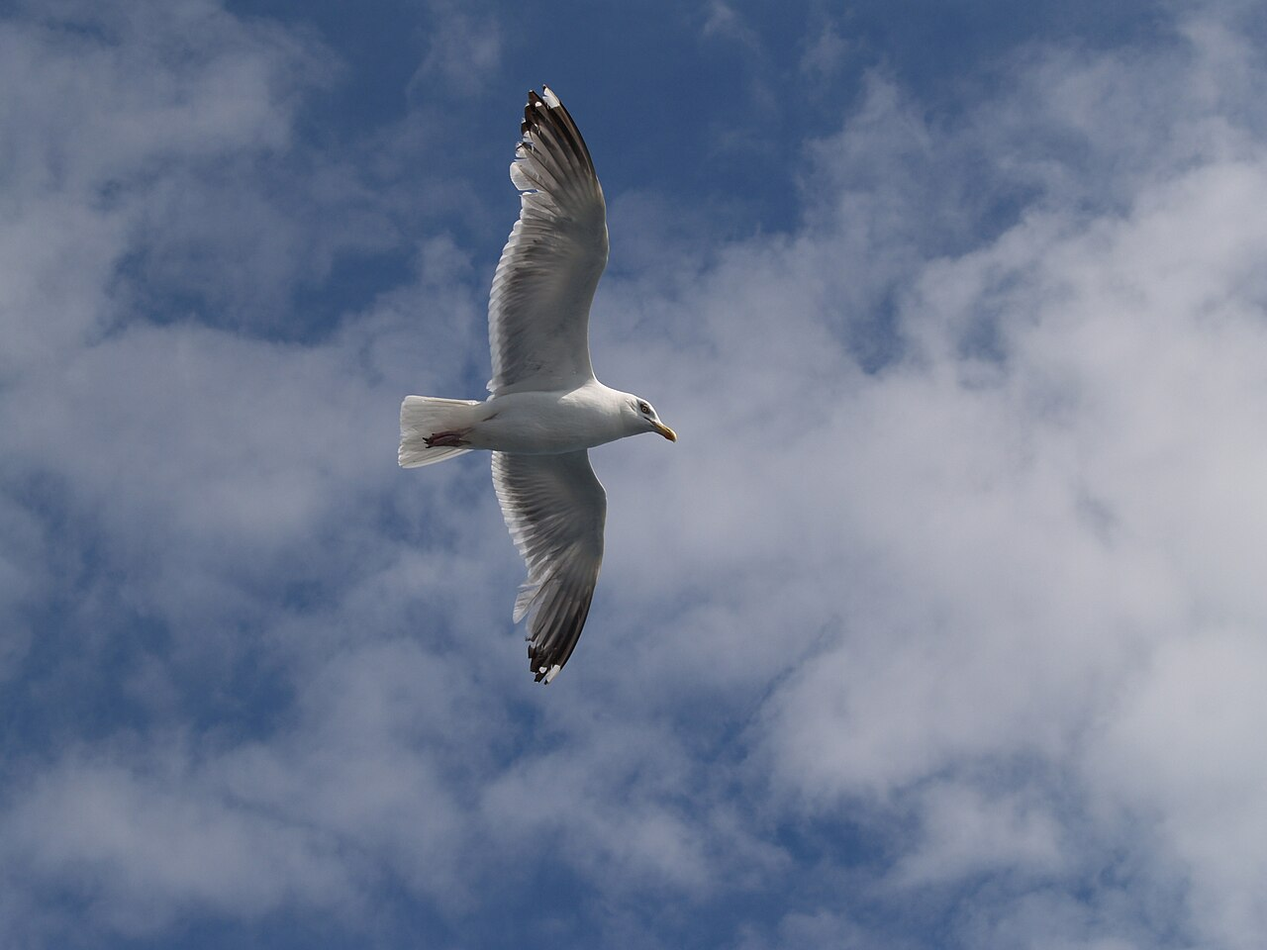bird: (395, 81, 679, 686)
